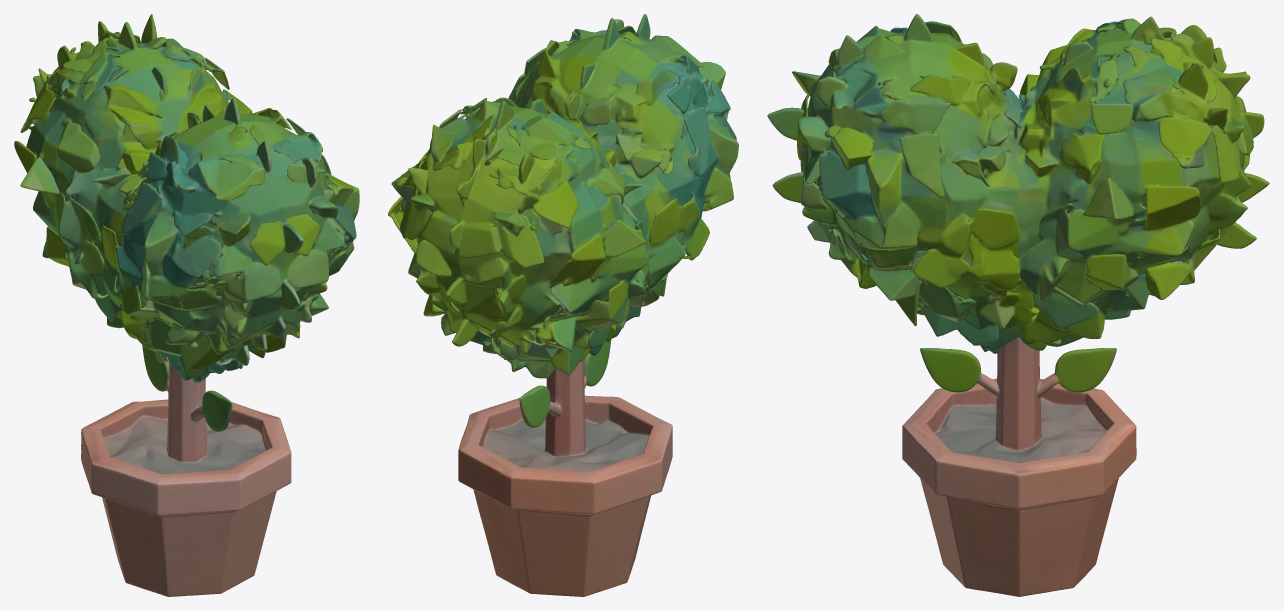
Rendered from topiary_heart.glb.
The picture shows the model from 3 angles, left to right: view 1: azimuth 30°, elevation 25°; view 2: azimuth 150°, elevation 25°; view 3: azimuth 270°, elevation 25°; orthographic projection. The views are drawn at different scales.
Visible parts, largest first — view 1: tripo_node_f3a42104-885f-4146-af6a-7f548cf22925; view 2: tripo_node_f3a42104-885f-4146-af6a-7f548cf22925; view 3: tripo_node_f3a42104-885f-4146-af6a-7f548cf22925.
Part boxes in pixels (x1,y1,x2,y2): tripo_node_f3a42104-885f-4146-af6a-7f548cf22925: [14, 14, 359, 596]; tripo_node_f3a42104-885f-4146-af6a-7f548cf22925: [388, 14, 738, 596]; tripo_node_f3a42104-885f-4146-af6a-7f548cf22925: [767, 14, 1269, 596].
Bounding box in the file's own units: 0.5158 × 1 × 0.8249.
1 material, 1 textured.
